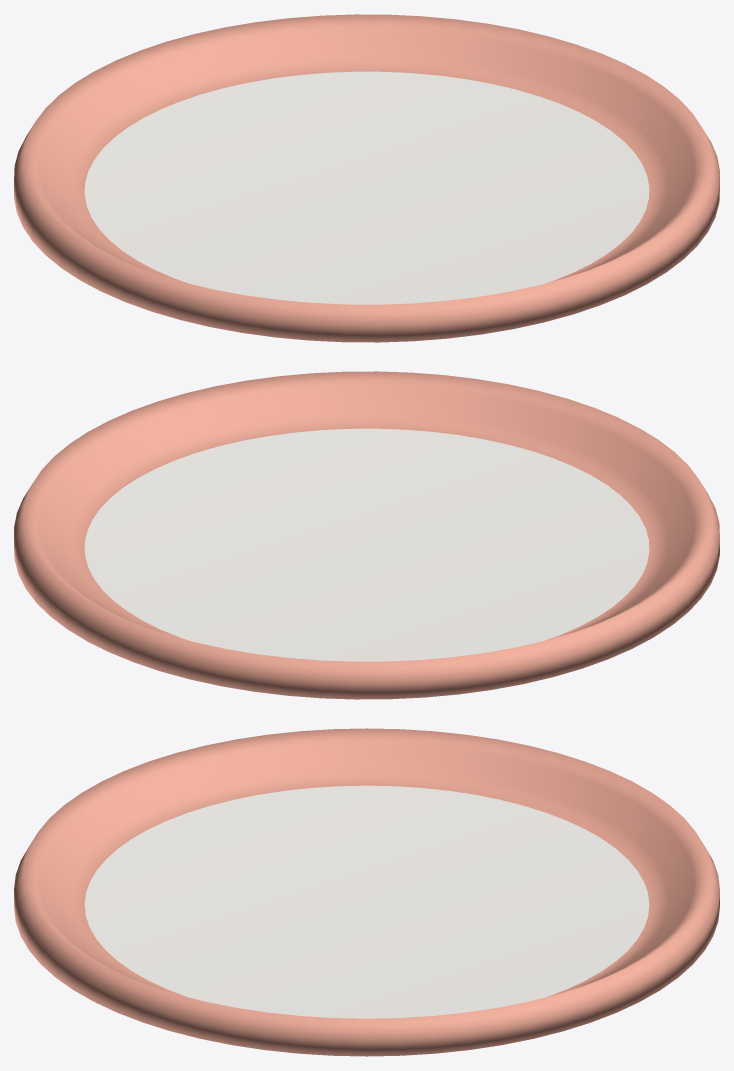
File: plates_b.glb
3 renders of one model, top to bottom at view 1: azimuth 30°, elevation 25°; view 2: azimuth 150°, elevation 25°; view 3: azimuth 270°, elevation 25°, orthographic.
Visible parts, largest first — view 1: body; view 2: body; view 3: body.
Part boxes in pixels (x1,y1,x2,y2): body: (14, 14, 719, 342); body: (14, 371, 719, 699); body: (14, 728, 719, 1056).
Bounding box in the file's own units: 0.22 × 0.014 × 0.22.
